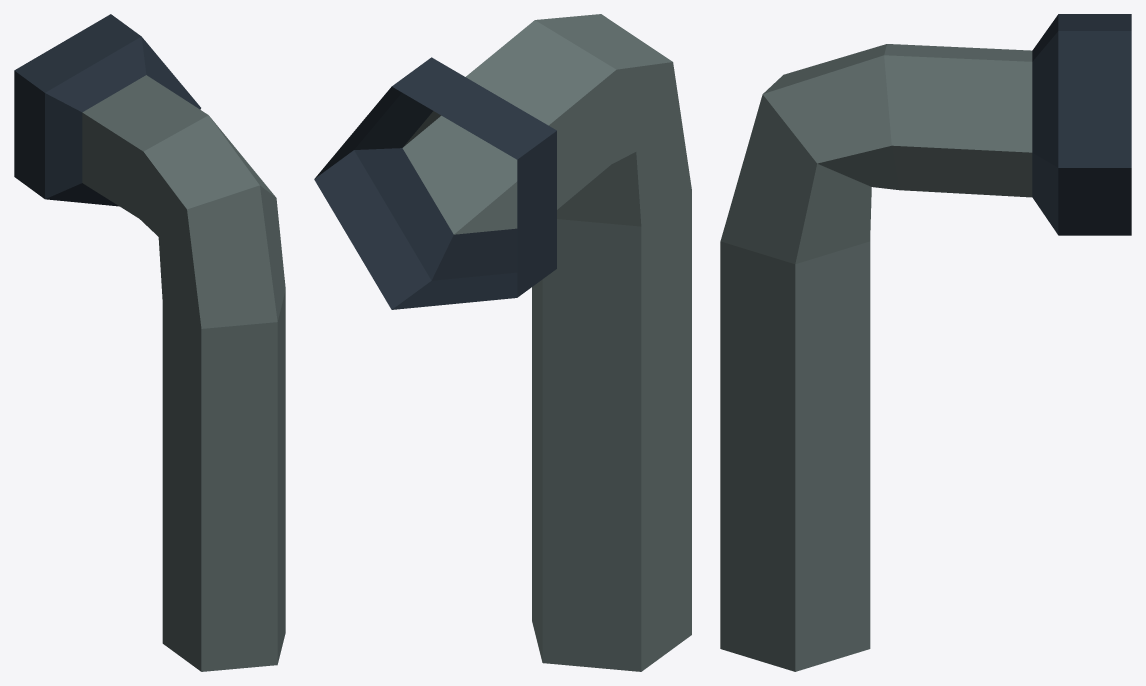
Rendered from Environment_Pipe_Top.fbx.
3 views of the same model, side by side, from view 1: azimuth 30°, elevation 25°; view 2: azimuth 150°, elevation 25°; view 3: azimuth 270°, elevation 25° (orthographic). The views are drawn at different scales.
Visible parts, largest first — view 1: Pipe_Top; view 2: Pipe_Top; view 3: Pipe_Top.
Boxes of the visible parts, bbox=[...] form: Pipe_Top: bbox=[14, 14, 285, 671]; Pipe_Top: bbox=[314, 14, 691, 671]; Pipe_Top: bbox=[720, 14, 1131, 671].
Bounding box in the file's own units: 273 × 872 × 522.
